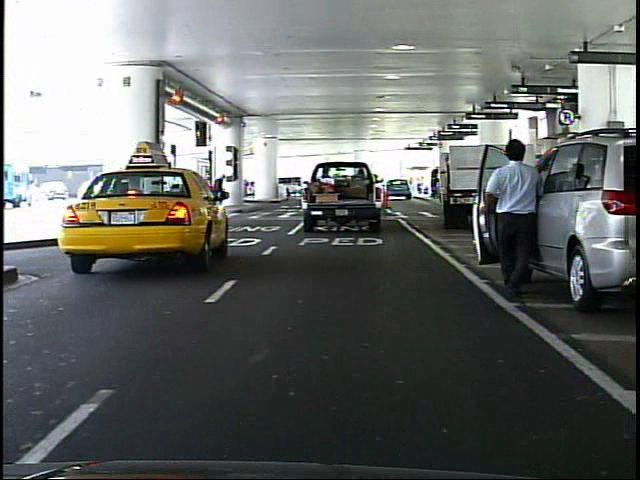person: (477, 129, 547, 299), (212, 167, 230, 210)
